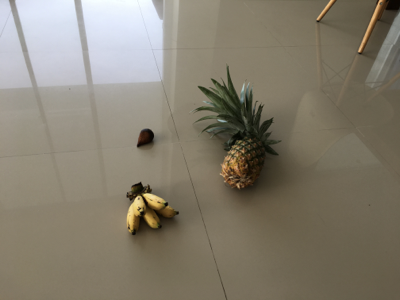banana: (125, 182, 180, 237)
pineapple: (194, 65, 282, 191)
snake fruit: (136, 128, 155, 149)
